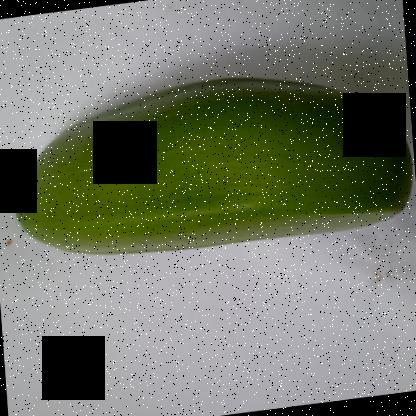freshunripe: (10, 65, 415, 264)
